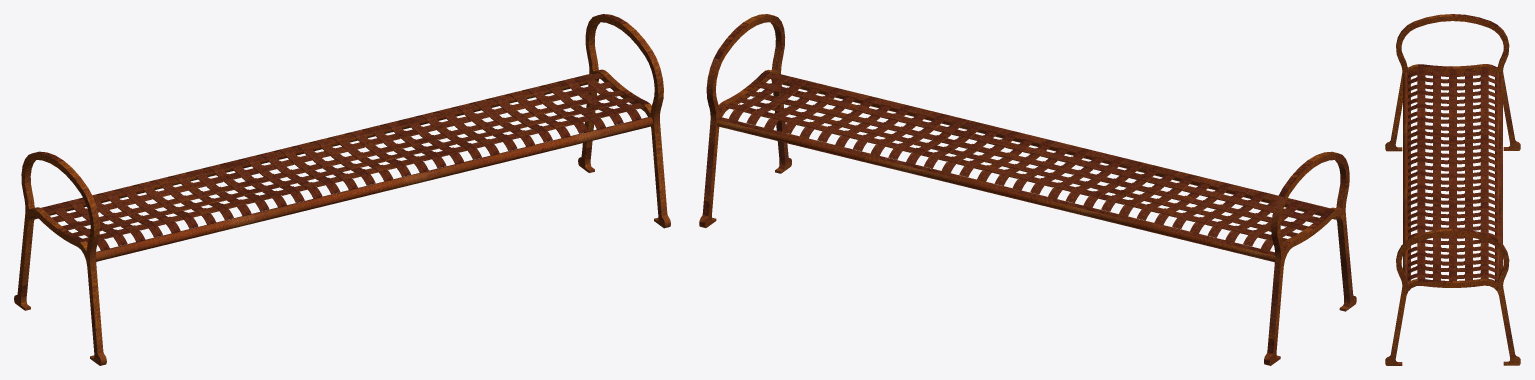
The picture shows the model from 3 angles, left to right: view 1: azimuth 30°, elevation 25°; view 2: azimuth 150°, elevation 25°; view 3: azimuth 270°, elevation 25°; orthographic projection. The views are drawn at different scales.
Visible parts, largest first — view 1: mesh12_mesh12-geometry, mesh8_mesh8-geometry, mesh1_mesh1-geometry, mesh4_mesh4-geometry, mesh6_mesh6-geometry, mesh10_mesh10-geometry; view 2: mesh12_mesh12-geometry, mesh8_mesh8-geometry, mesh1_mesh1-geometry, mesh4_mesh4-geometry, mesh6_mesh6-geometry, mesh10_mesh10-geometry; view 3: mesh12_mesh12-geometry, mesh4_mesh4-geometry, mesh6_mesh6-geometry, mesh8_mesh8-geometry, mesh10_mesh10-geometry, mesh1_mesh1-geometry.
Part boxes in pixels (x1,y1,x2,y2): mesh12_mesh12-geometry: [14, 14, 670, 365]; mesh8_mesh8-geometry: [42, 73, 644, 242]; mesh1_mesh1-geometry: [34, 73, 653, 261]; mesh4_mesh4-geometry: [61, 78, 623, 245]; mesh6_mesh6-geometry: [43, 75, 641, 250]; mesh10_mesh10-geometry: [52, 81, 634, 236]; mesh12_mesh12-geometry: [699, 14, 1356, 365]; mesh8_mesh8-geometry: [725, 73, 1328, 242]; mesh1_mesh1-geometry: [716, 74, 1336, 262]; mesh4_mesh4-geometry: [746, 79, 1309, 246]; mesh6_mesh6-geometry: [728, 75, 1327, 250]; mesh10_mesh10-geometry: [736, 81, 1318, 236]; mesh12_mesh12-geometry: [1385, 14, 1520, 365]; mesh4_mesh4-geometry: [1408, 77, 1497, 273]; mesh6_mesh6-geometry: [1408, 71, 1497, 280]; mesh8_mesh8-geometry: [1417, 67, 1488, 280]; mesh10_mesh10-geometry: [1433, 68, 1472, 280]; mesh1_mesh1-geometry: [1403, 72, 1502, 290].
Bounding box in the file's own units: 0.9308 × 0.2704 × 0.246.
